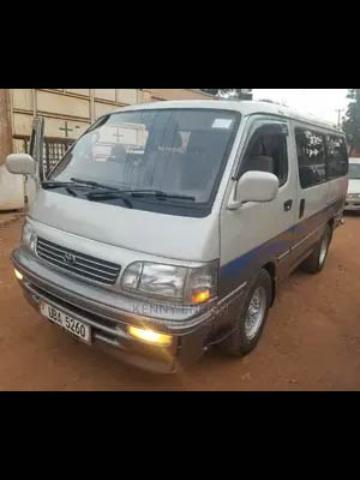van: (3, 96, 346, 372)
